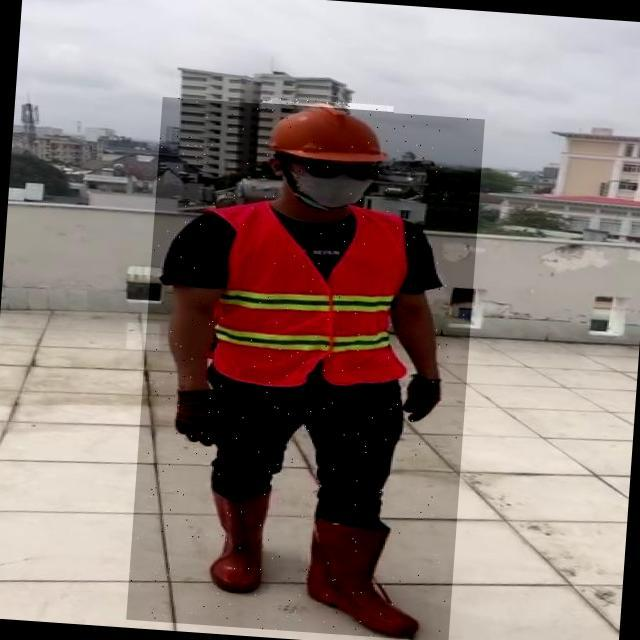Gloves: (167, 387, 239, 450), (401, 370, 443, 424)
Helmet: (259, 97, 395, 166)
Human: (125, 96, 484, 640)
Safety Boot: (307, 517, 427, 638), (201, 488, 276, 594)
Safety Vest: (204, 201, 419, 395)
